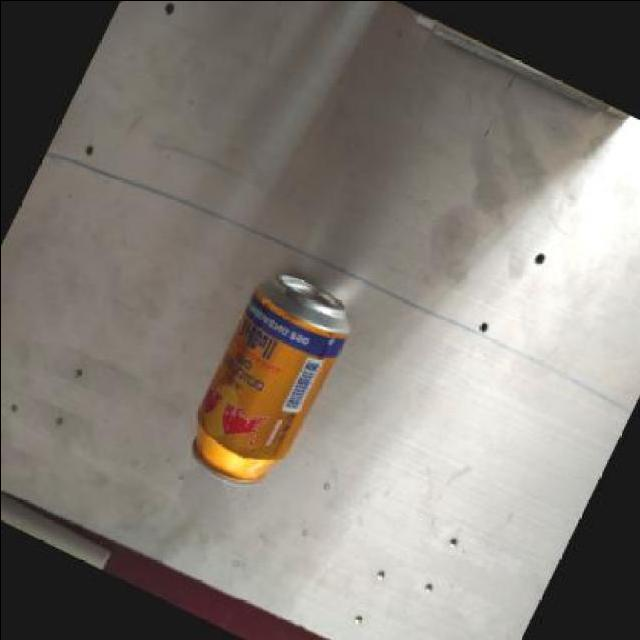can: (163, 245, 374, 512)
